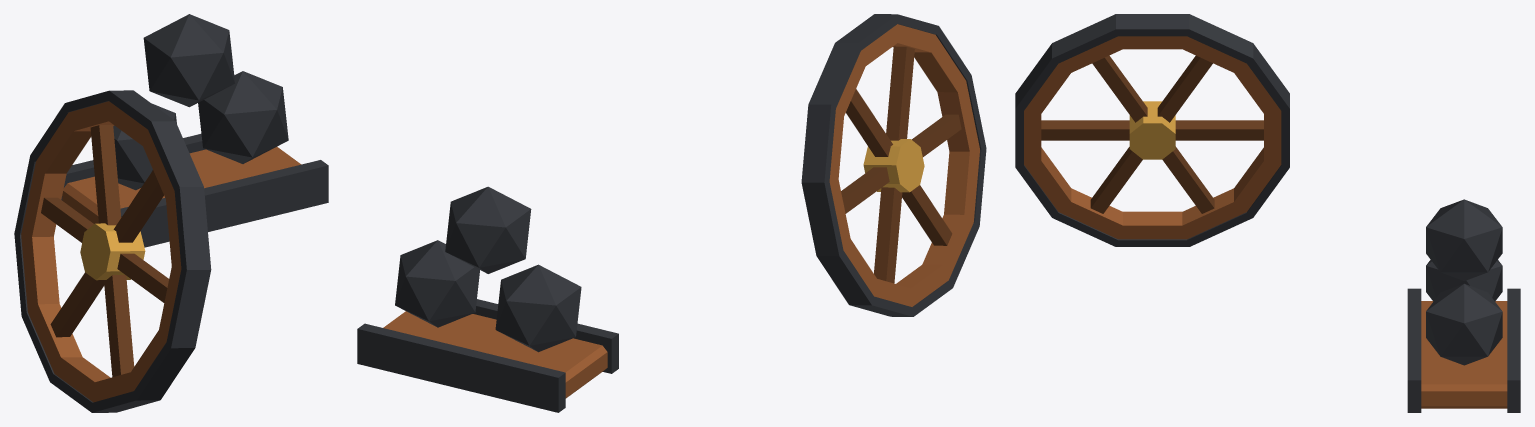
The model's file is CannonDressB1.obj.
3 views of the same model, side by side, from view 1: azimuth 30°, elevation 25°; view 2: azimuth 150°, elevation 25°; view 3: azimuth 270°, elevation 25° (orthographic). The views are drawn at different scales.
Parts seen in each view (by area): view 1: CannonDressB1; view 2: CannonDressB1; view 3: CannonDressB1.
Part boxes in pixels (box(x1,y1,x2,y2)): CannonDressB1: box(14, 14, 328, 412); CannonDressB1: box(357, 14, 986, 412); CannonDressB1: box(1015, 14, 1520, 412).
Size of the model in its own units: 0.9039 by 0.6153 by 1.12.
